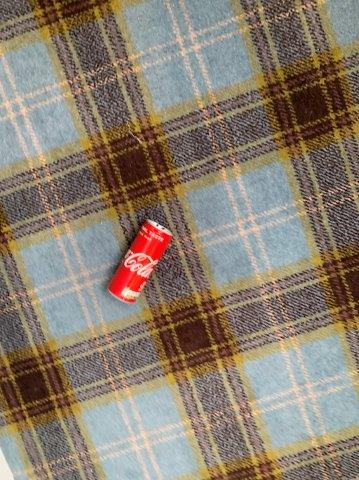kaleng: (108, 221, 172, 303)
